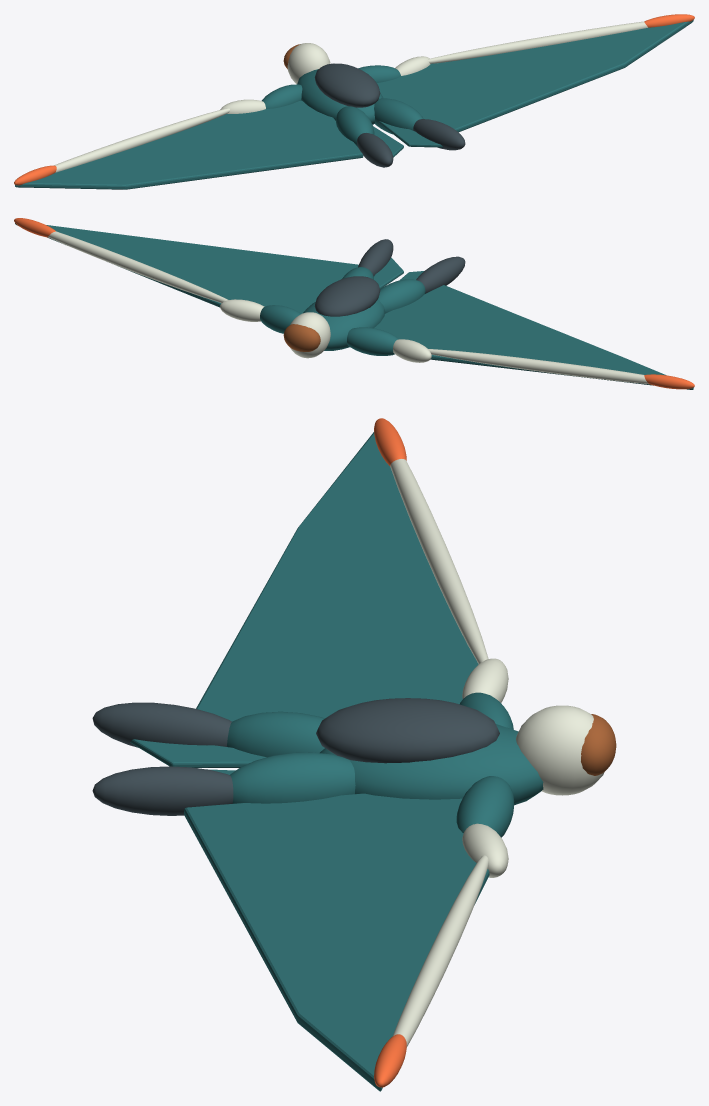
File: kite-w.glb
3 views of the same model, one above another, from view 1: azimuth 30°, elevation 25°; view 2: azimuth 150°, elevation 25°; view 3: azimuth 270°, elevation 25° (orthographic). The views are drawn at different scales.
Parts seen in each view (by area): view 1: Arm membrane, Arm membrane.001, Dorsal impeller, Deployable carbon spar.001, Deployable carbon spar, Pressure jacket, Thigh.001, Sealed helmet, Boot.001, Thigh, Boot, Upper sleeve (+7 smaller); view 2: Arm membrane, Arm membrane.001, Deployable carbon spar, Dorsal impeller, Deployable carbon spar.001, Pressure jacket, Upper sleeve, Thigh, Boot, Sealed helmet, Visor, Upper sleeve.001 (+6 smaller); view 3: Arm membrane.001, Arm membrane, Dorsal impeller, Pressure jacket, Boot.001, Thigh.001, Sealed helmet, Boot, Deployable carbon spar, Deployable carbon spar.001, Thigh, Upper sleeve.001 (+6 smaller).
Part boxes in pixels (x1,y1,x2,y2): Arm membrane: (15, 100, 363, 189); Arm membrane.001: (377, 20, 693, 132); Dorsal impeller: (314, 63, 380, 107); Deployable carbon spar.001: (428, 21, 647, 63); Deployable carbon spar: (54, 108, 229, 172); Pressure jacket: (297, 69, 383, 124); Thigh.001: (374, 98, 423, 134); Sealed helmet: (287, 43, 330, 83); Boot.001: (413, 119, 465, 150); Thigh: (336, 106, 374, 147); Boot: (357, 133, 393, 167); Upper sleeve: (261, 84, 302, 108); Arm membrane: (374, 285, 693, 389); Arm membrane.001: (15, 223, 358, 313); Deployable carbon spar: (428, 349, 649, 384); Dorsal impeller: (314, 276, 380, 316); Deployable carbon spar.001: (48, 231, 227, 302); Pressure jacket: (303, 299, 385, 350); Upper sleeve: (347, 327, 398, 355); Thigh: (378, 279, 425, 313); Boot: (416, 256, 465, 293); Sealed helmet: (290, 312, 330, 358); Visor: (283, 324, 320, 351); Upper sleeve.001: (260, 305, 300, 333); Arm membrane.001: (184, 793, 489, 1091); Arm membrane: (196, 432, 478, 721); Dorsal impeller: (316, 698, 499, 763); Pressure jacket: (320, 724, 543, 805); Boot.001: (92, 766, 233, 815); Thigh.001: (230, 752, 355, 803); Sealed helmet: (516, 705, 604, 795); Boot: (92, 702, 231, 747); Deployable carbon spar: (390, 459, 488, 663); Deployable carbon spar.001: (392, 855, 488, 1047); Thigh: (227, 711, 324, 757); Upper sleeve.001: (456, 776, 514, 837).
Bounding box in the file's own units: 5.81 × 0.41 × 1.94.
